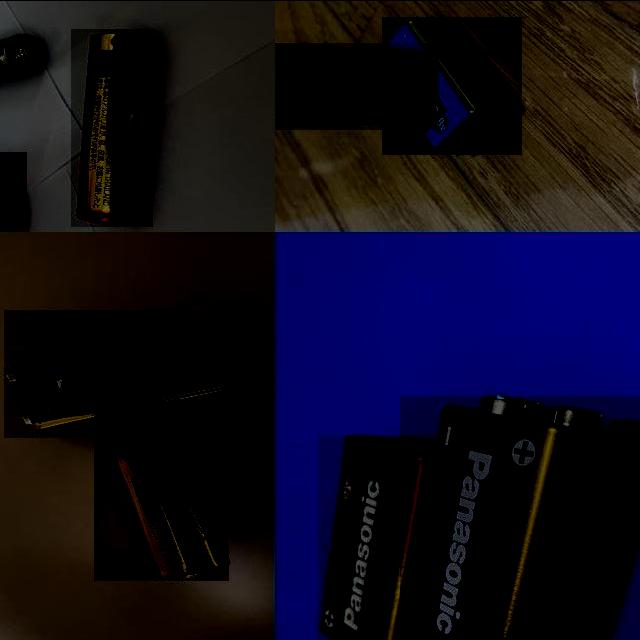9V: (400, 395, 640, 640), (4, 308, 235, 436), (94, 398, 229, 580), (318, 434, 436, 640), (383, 16, 523, 154), (275, 42, 438, 129)
